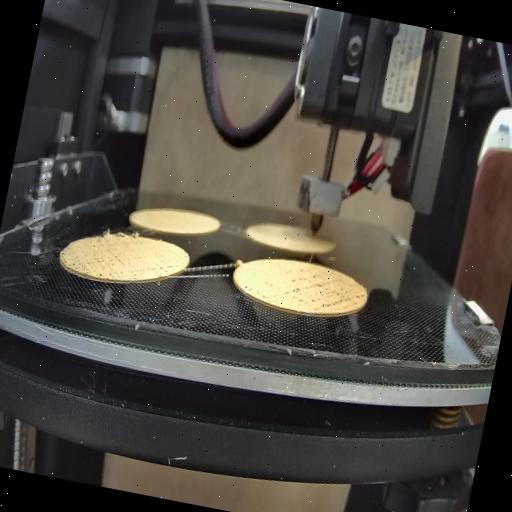under_extrusion: (285, 268, 367, 318), (72, 238, 130, 282), (239, 279, 275, 304), (144, 261, 174, 280)
